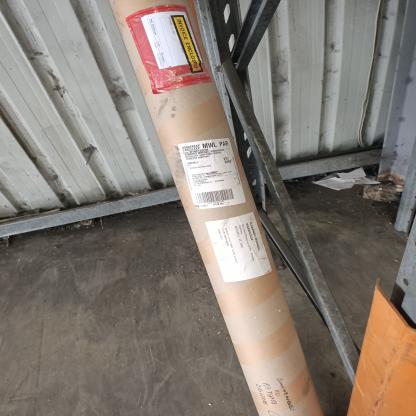label: (206, 211, 274, 283), (180, 137, 246, 208), (142, 11, 205, 69)
package: (107, 0, 325, 416)
